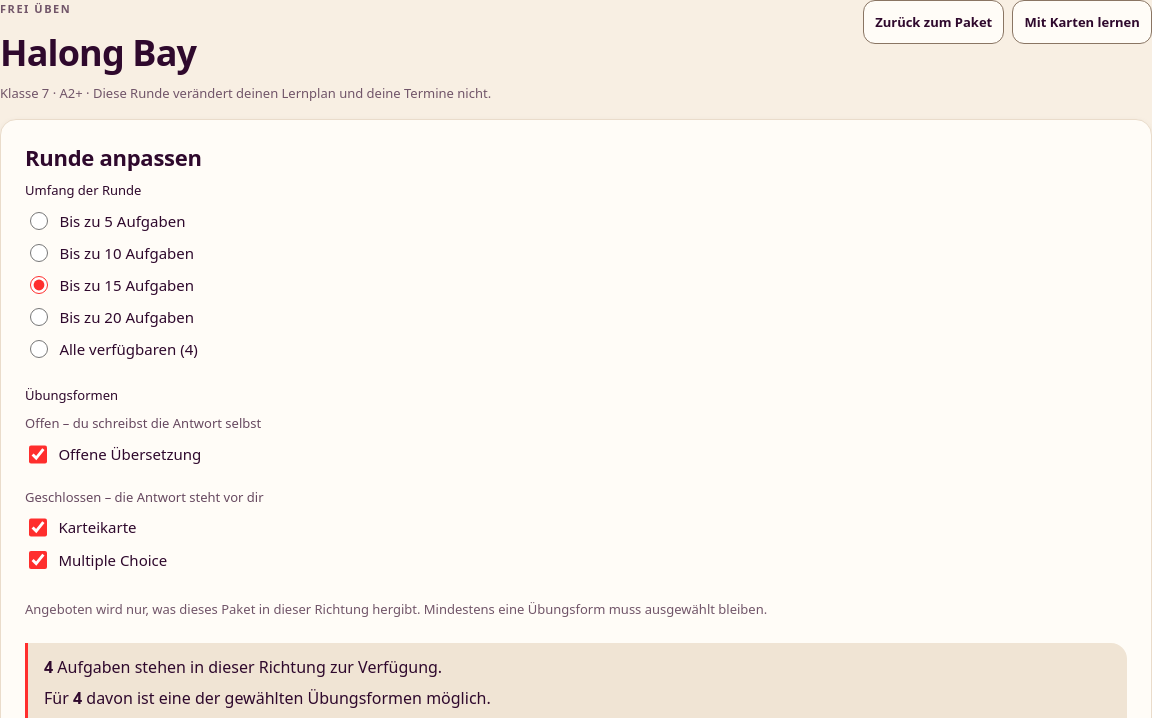
Test: Rückfrage vor dem Verlassen › fragt in der Einrichtung nicht nach
The width and height of the screenshot is (1152, 718).
Check: the heading "Runde anpassen" is shown, box [25, 142, 202, 172]
Click the link "Zurück zum Paket". click: click(934, 22)
box: [863, 0, 1004, 44]
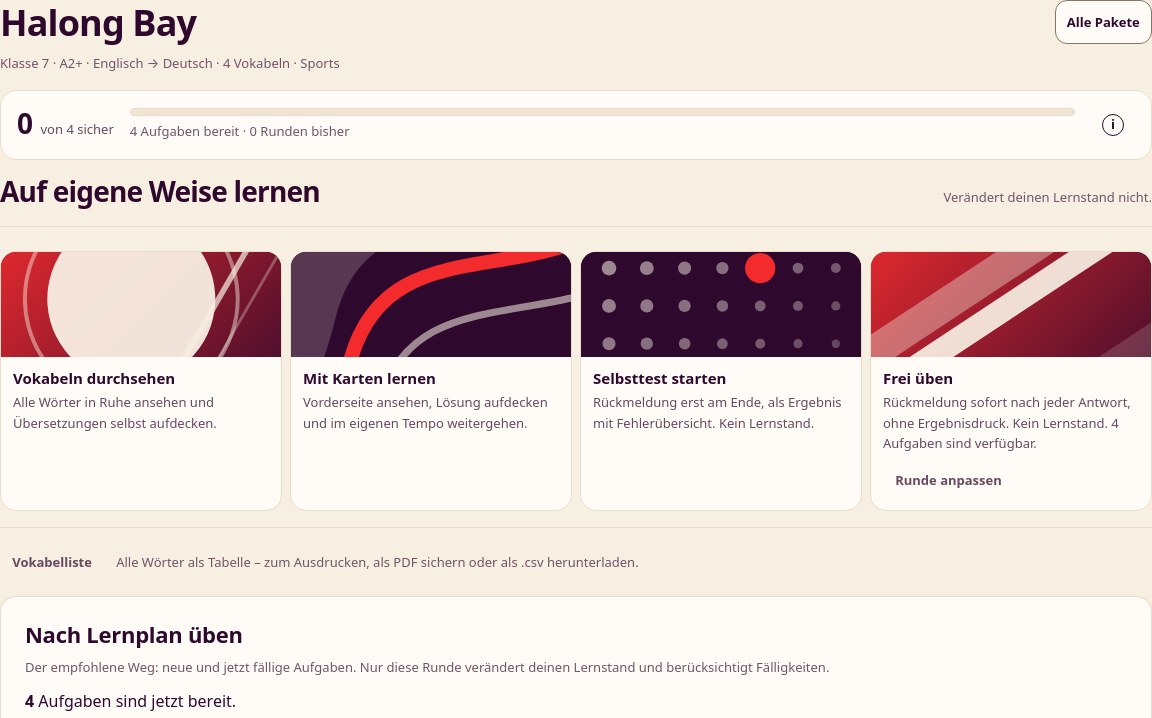
Check: the heading "Auf eigene Weise lernen" is shown, box [0, 176, 320, 206]
